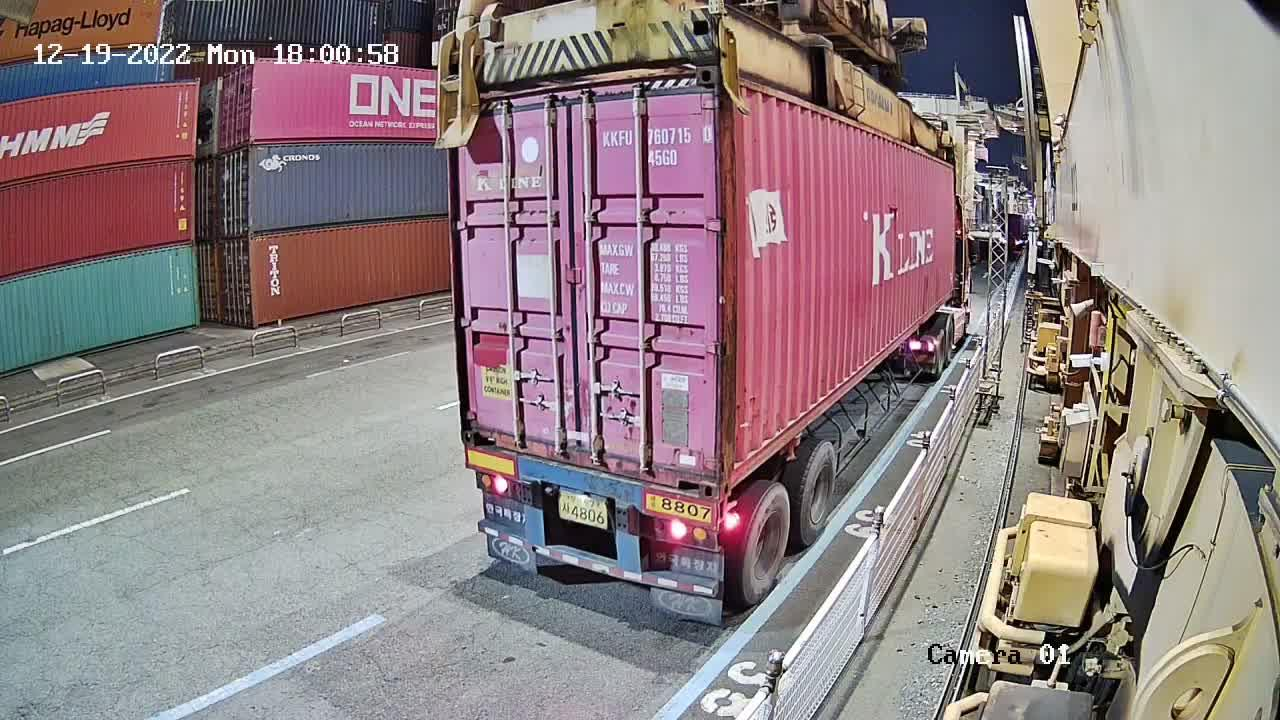Chassis: (466, 448, 720, 529)
Cone: (718, 498, 731, 527)
Hole_L: (719, 432, 756, 502), (460, 407, 498, 449)
Hole_R: (674, 446, 719, 501)
Tire: (743, 486, 790, 601), (801, 443, 836, 541)
